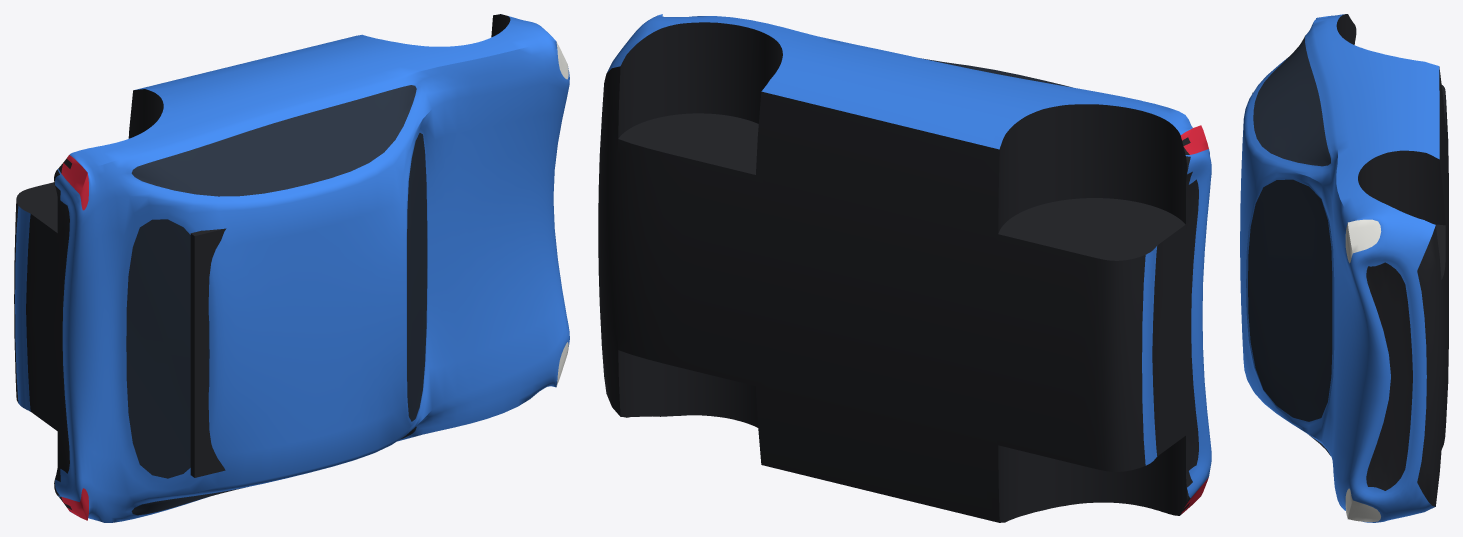
File: toro.glb
The picture shows the model from 3 angles, left to right: view 1: azimuth 30°, elevation 25°; view 2: azimuth 150°, elevation 25°; view 3: azimuth 270°, elevation 25°; orthographic projection. The views are drawn at different scales.
Visible parts, largest first — view 1: toro; view 2: toro; view 3: toro.
Boxes of the visible parts, x1,y1,x2,y2 form: toro: [14, 14, 569, 522]; toro: [598, 14, 1211, 522]; toro: [1240, 14, 1448, 522].
Size of the model in its own units: 120 by 83.69 by 49.11.
